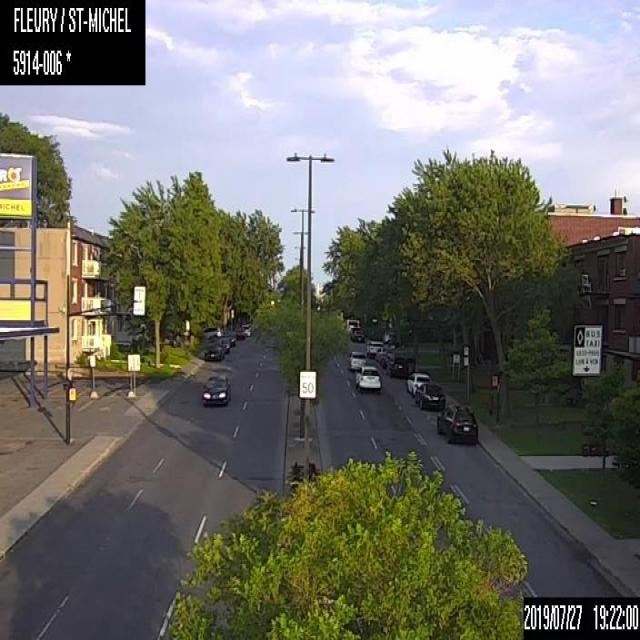vehicle: (437, 402, 478, 443), (201, 371, 232, 406), (414, 380, 446, 411), (354, 364, 382, 392), (385, 352, 411, 378), (406, 371, 430, 396), (204, 342, 224, 363), (348, 350, 367, 370), (366, 339, 384, 354), (202, 326, 221, 340), (374, 346, 391, 360), (217, 337, 229, 353), (349, 328, 364, 340), (240, 324, 252, 336)
